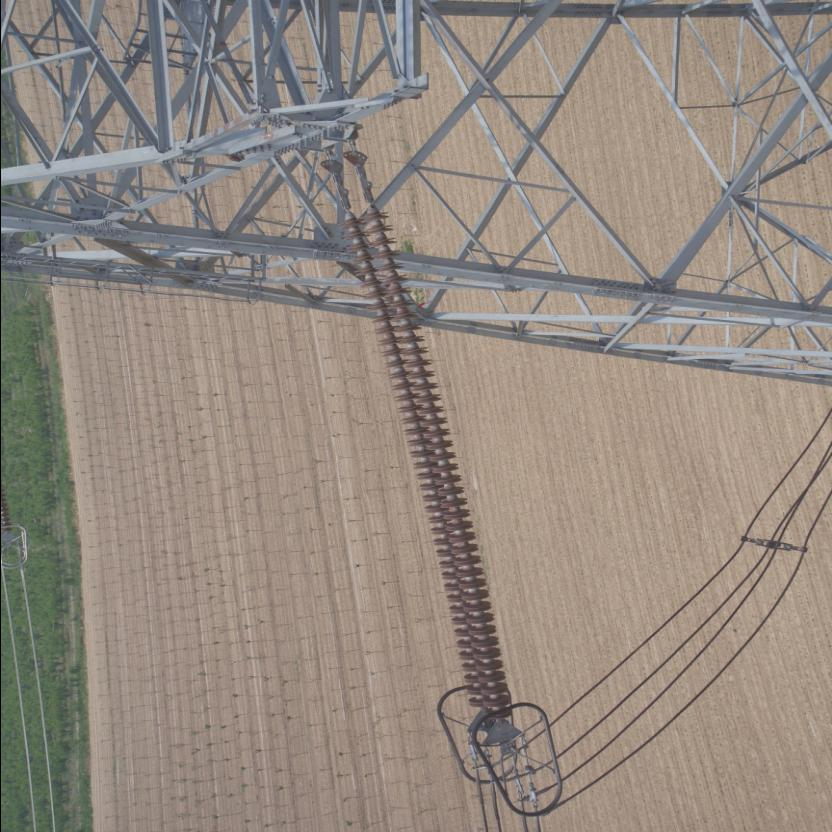insulator: (332, 184, 514, 725)
